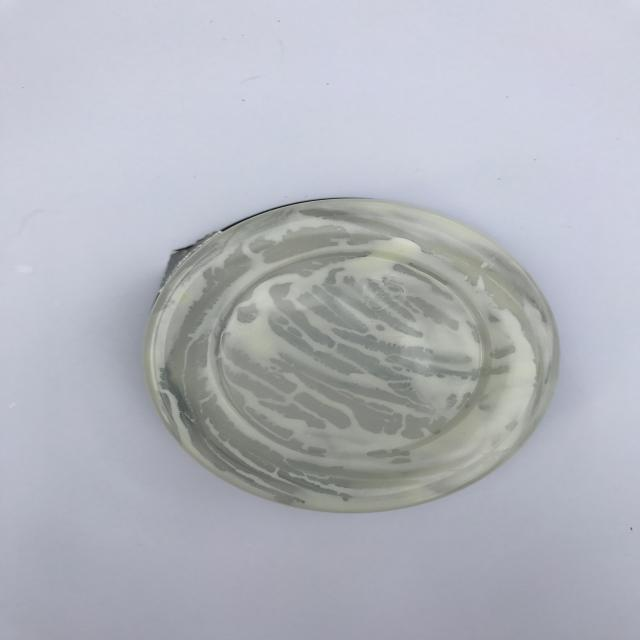plastic: (143, 196, 560, 514)
